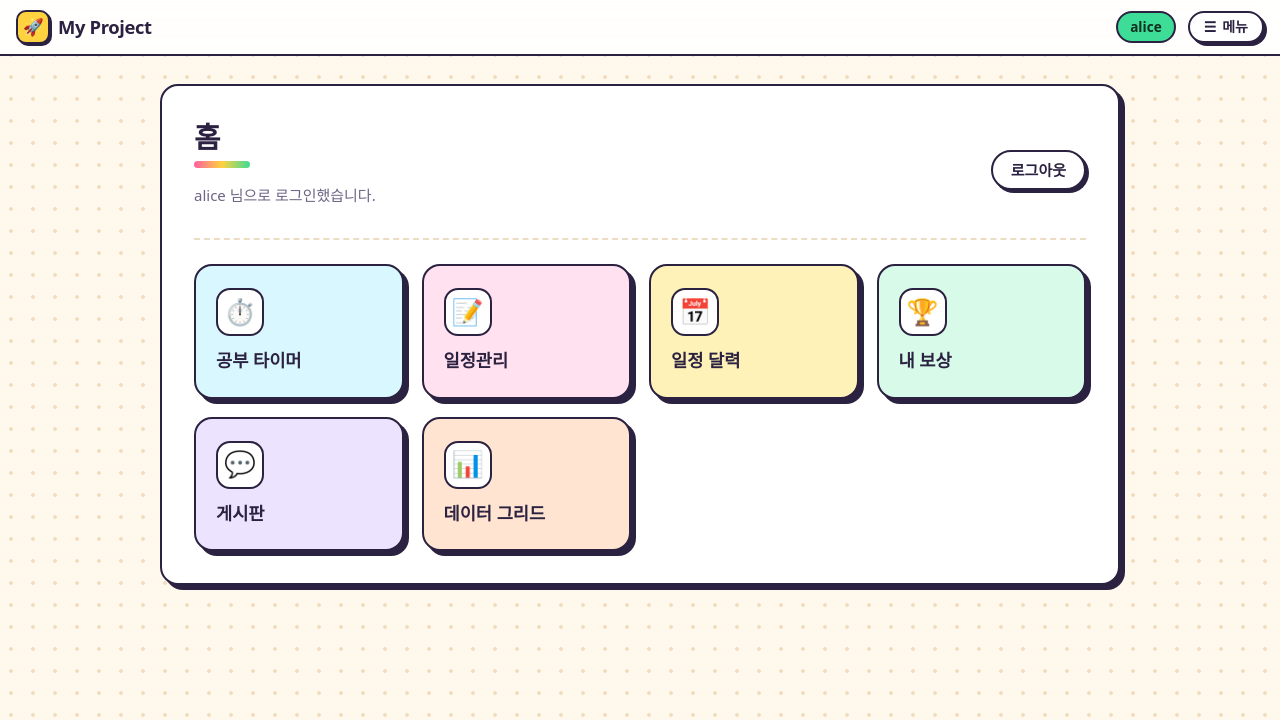
App auth state and routing › logs out with POST + CSRF, clears auth state and returns to login
Expected: the text "alice 님으로 로그인했습니다." is shown, [194,183,376,207]
Click the button "로그아웃".
click(1038, 170)  # box [991,150,1086,190]
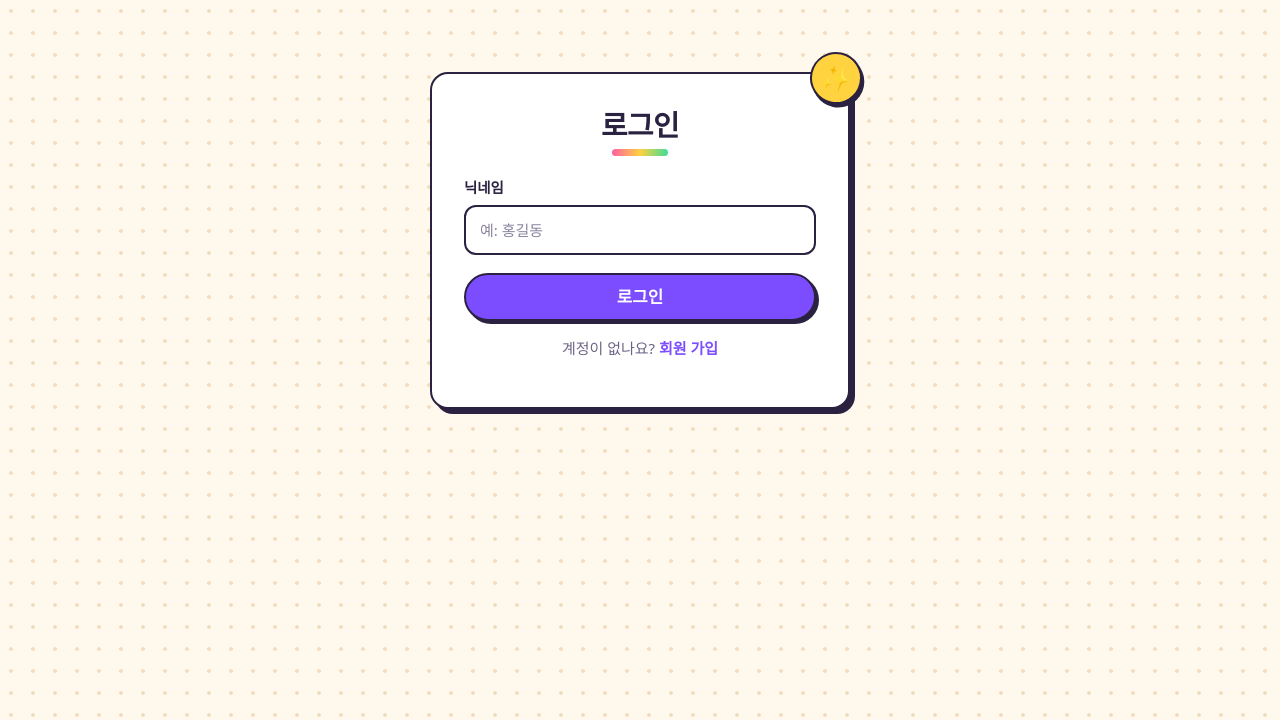
Now the heading "로그인" is shown, box [601,105,679,144]
Now the text "alice 님으로 로그인했습니다." is gone
